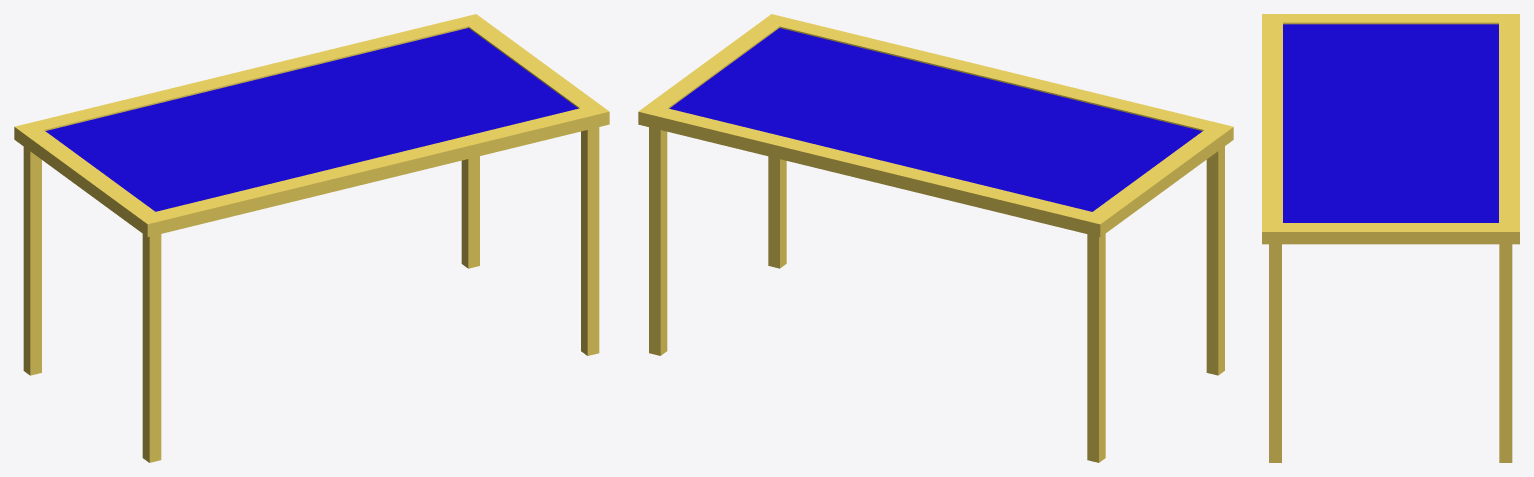
Rendered from DiningTable.fbx.
3 views of the same model, side by side, from view 1: azimuth 30°, elevation 25°; view 2: azimuth 150°, elevation 25°; view 3: azimuth 270°, elevation 25° (orthographic). The views are drawn at different scales.
Parts seen in each view (by area): view 1: Table_Dining_Glass, Table_Dining; view 2: Table_Dining_Glass, Table_Dining; view 3: Table_Dining_Glass, Table_Dining.
Boxes of the visible parts, x1,y1,x2,y2 form: Table_Dining_Glass: (45, 28, 577, 211); Table_Dining: (14, 14, 609, 462); Table_Dining_Glass: (669, 28, 1202, 211); Table_Dining: (638, 14, 1233, 462); Table_Dining_Glass: (1283, 24, 1498, 222); Table_Dining: (1262, 14, 1519, 462).
Bounding box in the file's own units: 200 × 100 × 100.
